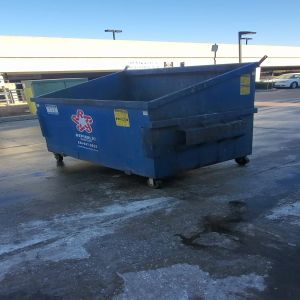Dumpster: (37, 62, 261, 190)
